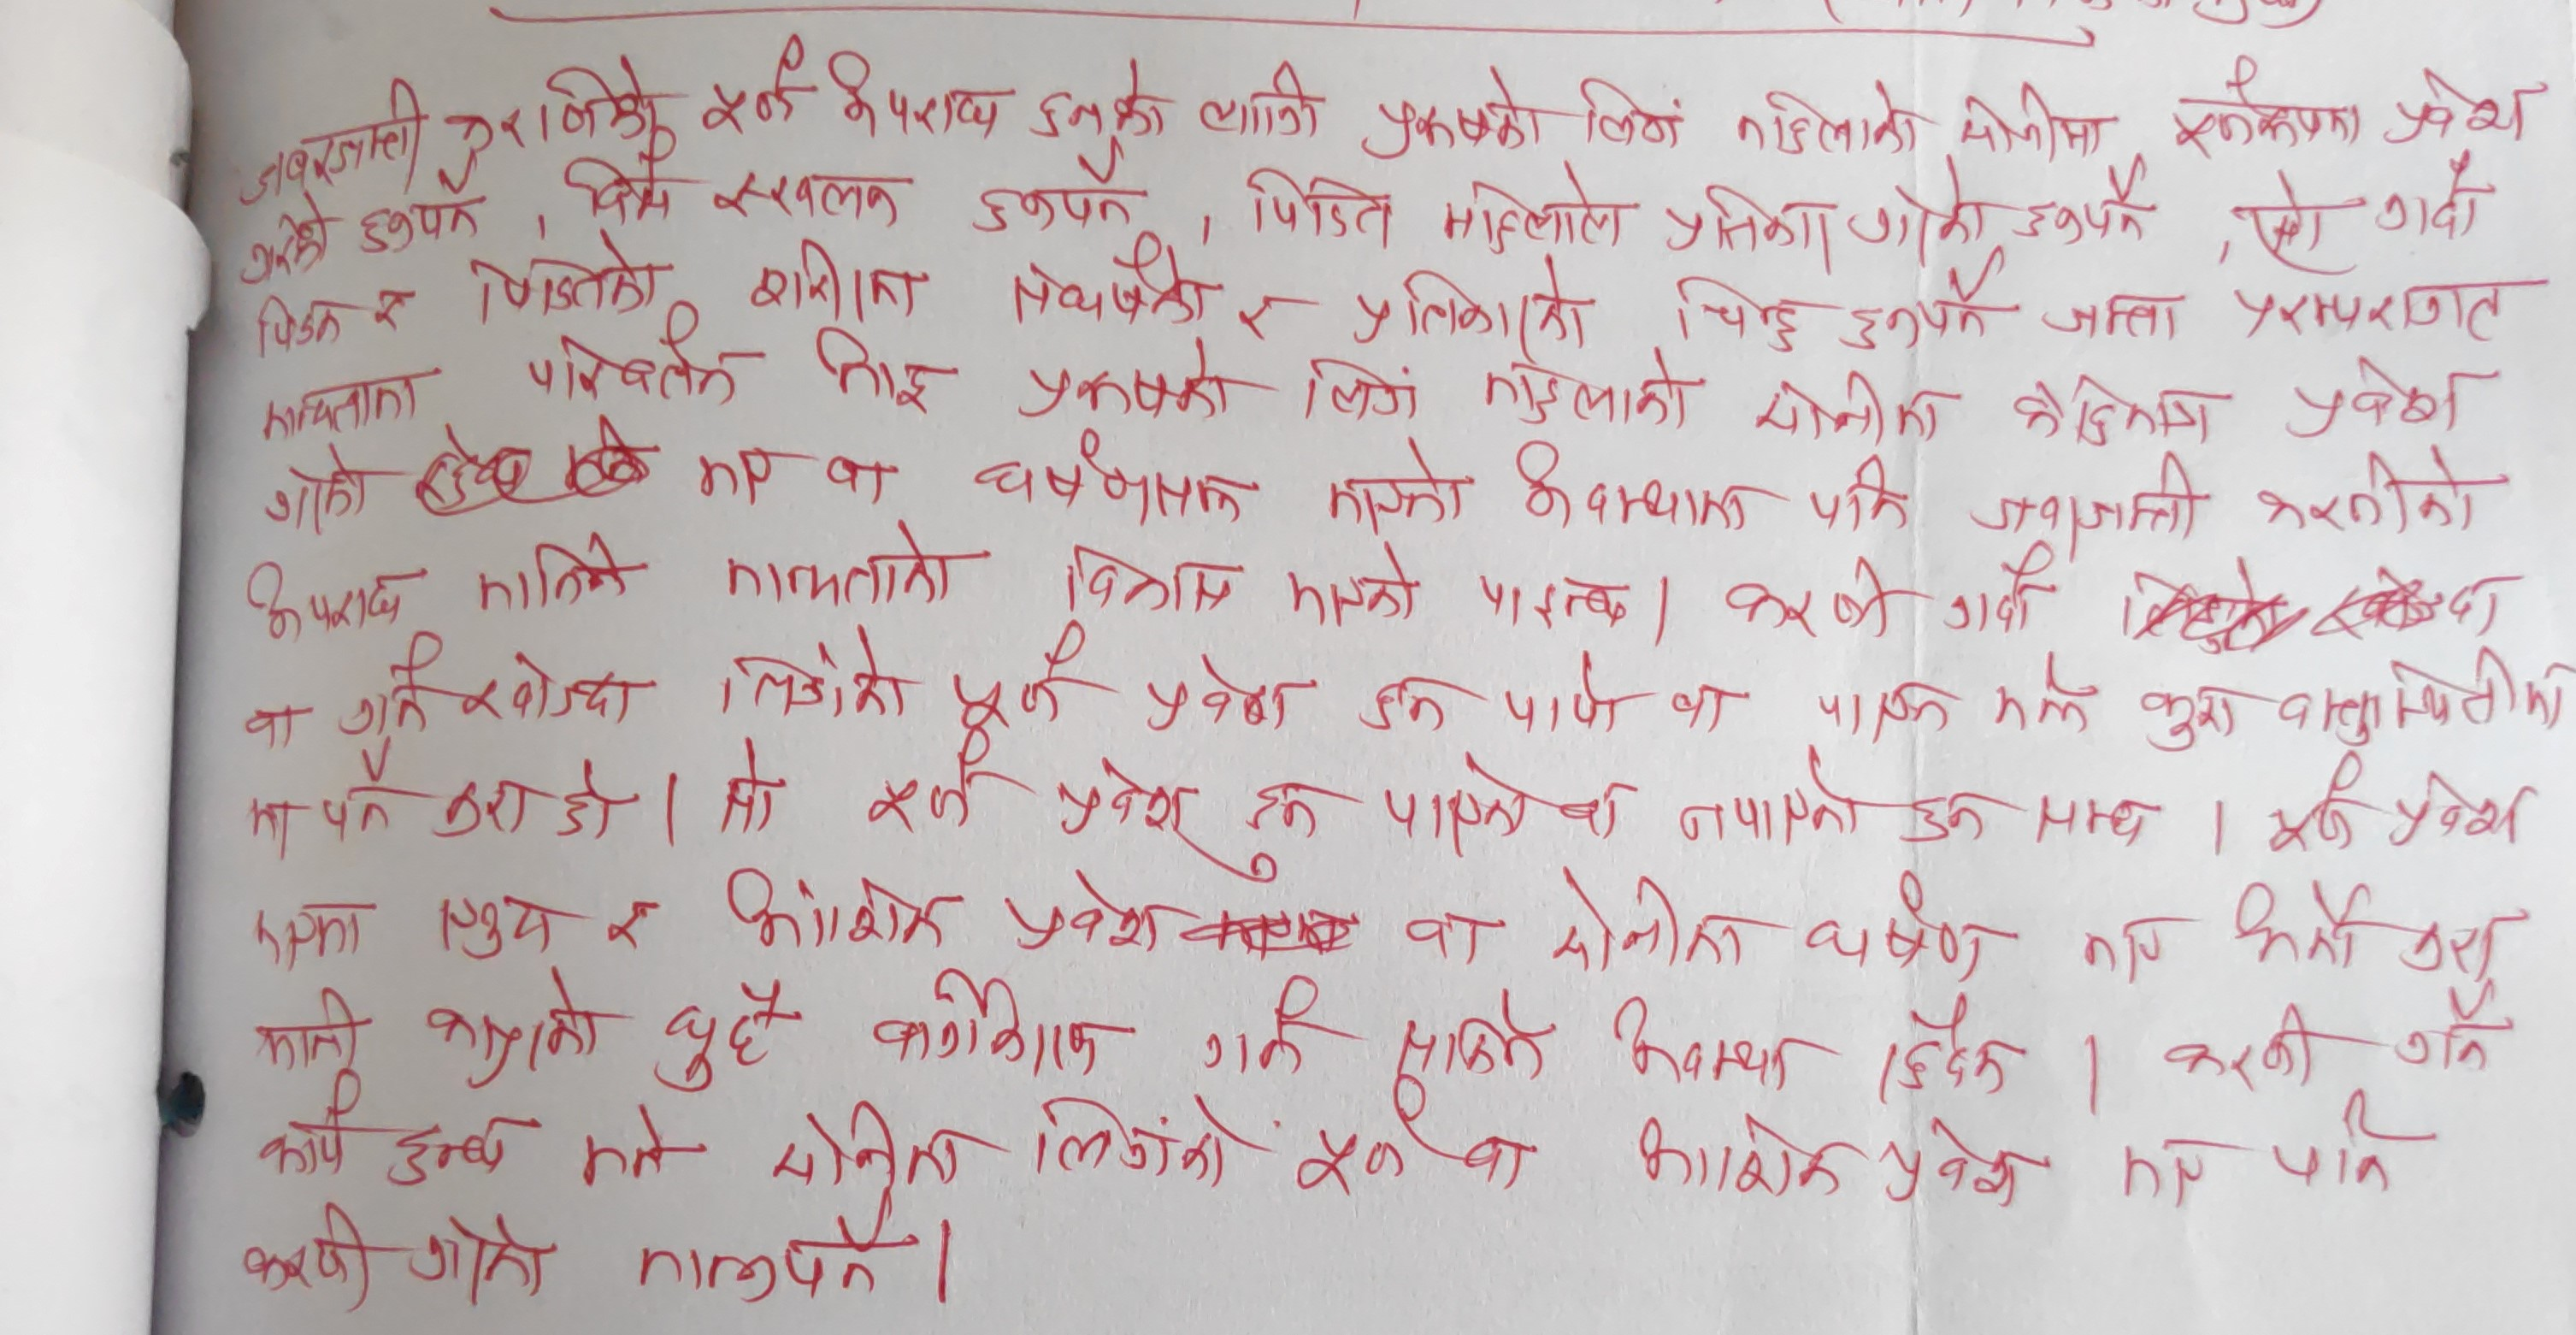text: (966, 424, 1266, 526), (628, 1197, 907, 1306), (2270, 647, 2576, 746), (859, 967, 1106, 1088), (1507, 436, 1764, 533), (447, 54, 679, 160), (1802, 868, 2008, 986), (1545, 868, 1756, 981), (1348, 257, 1591, 354), (1009, 332, 1247, 431), (716, 863, 960, 957), (2249, 450, 2493, 541), (240, 78, 427, 196), (419, 971, 606, 1088), (1028, 1095, 1239, 1199), (1628, 1105, 1855, 1199), (1972, 450, 2202, 541), (1603, 993, 1804, 1097), (716, 523, 956, 608), (2164, 54, 2367, 153), (522, 327, 757, 410), (2278, 346, 2479, 443), (713, 630, 924, 722), (2231, 279, 2515, 347), (473, 228, 667, 325), (822, 46, 1009, 146), (2008, 366, 2226, 450), (1365, 66, 1548, 165), (2271, 1091, 2430, 1204), (1473, 354, 1705, 431), (762, 1103, 965, 1190), (999, 249, 1213, 329), (1659, 174, 1841, 267), (647, 977, 795, 1090), (1715, 552, 1899, 642), (963, 145, 1140, 237), (1676, 765, 1866, 850), (459, 645, 647, 731), (1371, 761, 1538, 857), (1875, 1117, 2042, 1212), (749, 233, 927, 322), (1436, 170, 1633, 250), (1143, 649, 1305, 746), (242, 1199, 381, 1311), (1751, 364, 1946, 444), (1875, 998, 2023, 1102), (1324, 436, 1475, 536), (995, 868, 1164, 959), (938, 625, 1091, 724), (1735, 78, 1924, 158), (2157, 1003, 2326, 1091), (1058, 536, 1240, 618), (2229, 875, 2372, 979), (237, 553, 410, 639), (1245, 158, 1397, 255), (410, 1207, 551, 1309), (470, 533, 640, 616), (1387, 996, 1555, 1078), (1841, 266, 2001, 351), (706, 165, 905, 233), (2389, 761, 2532, 855), (1198, 967, 1319, 1076), (1472, 560, 1642, 637), (1848, 170, 1996, 257), (1269, 545, 1417, 632), (861, 734, 983, 838), (337, 630, 449, 742), (254, 371, 429, 443), (252, 1073, 364, 1183), (2384, 61, 2539, 141), (1957, 75, 2105, 158), (1029, 54, 1171, 140), (1048, 759, 1191, 843), (808, 325, 939, 415), (1667, 266, 1802, 352), (2260, 753, 2372, 857), (2234, 165, 2338, 276), (2016, 165, 2152, 249), (1494, 662, 1630, 746), (1802, 678, 1969, 746), (248, 984, 374, 1073), (703, 34, 810, 138), (1943, 547, 2055, 644), (1293, 352, 1434, 429), (424, 884, 558, 964), (385, 1110, 512, 1194), (1198, 60, 1327, 141), (2375, 155, 2493, 244), (260, 448, 378, 536), (570, 1098, 681, 1192), (555, 153, 681, 235), (1293, 1124, 1407, 1214), (1982, 654, 2098, 739), (2025, 785, 2159, 858), (2397, 908, 2522, 986), (247, 896, 374, 971), (1576, 72, 1688, 153), (235, 201, 339, 286), (1807, 455, 1916, 535), (357, 186, 482, 255), (2134, 676, 2241, 756), (315, 739, 402, 838), (2396, 991, 2499, 1071), (2038, 288, 2186, 342), (710, 729, 783, 838), (427, 780, 550, 845), (555, 756, 633, 855), (2077, 904, 2171, 986), (2112, 1134, 2222, 1200), (1555, 780, 1642, 857), (1446, 1127, 1545, 1192), (1365, 664, 1453, 736), (1402, 904, 1501, 964), (237, 792, 306, 875), (1240, 778, 1327, 845), (254, 293, 345, 354), (692, 438, 781, 501), (1906, 790, 1998, 845), (817, 448, 897, 506), (1666, 671, 1732, 734), (601, 894, 667, 957), (242, 695, 313, 753), (1228, 289, 1293, 347), (361, 281, 415, 329)
